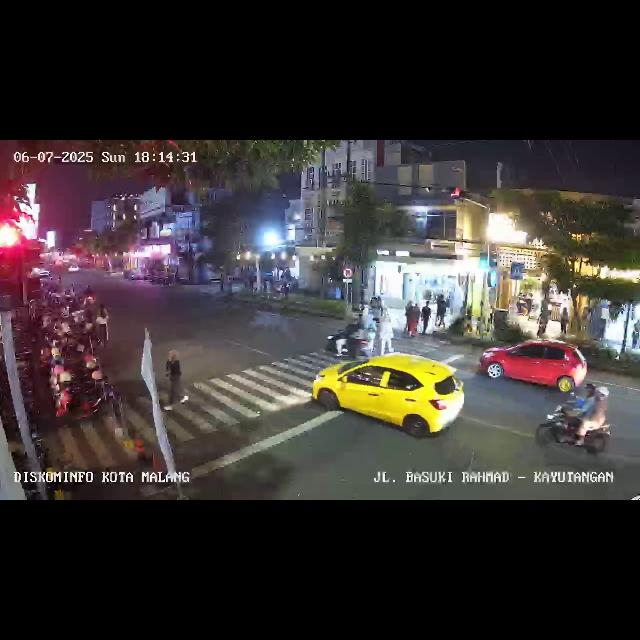car: (312, 354, 463, 444), (479, 337, 589, 395)
motorcycle: (537, 383, 615, 457), (325, 317, 379, 361)
person: (165, 349, 187, 411), (94, 303, 110, 349), (381, 314, 394, 356), (404, 300, 418, 338), (435, 292, 447, 328), (532, 306, 546, 336), (420, 297, 430, 335), (559, 304, 569, 336), (632, 320, 640, 350)
